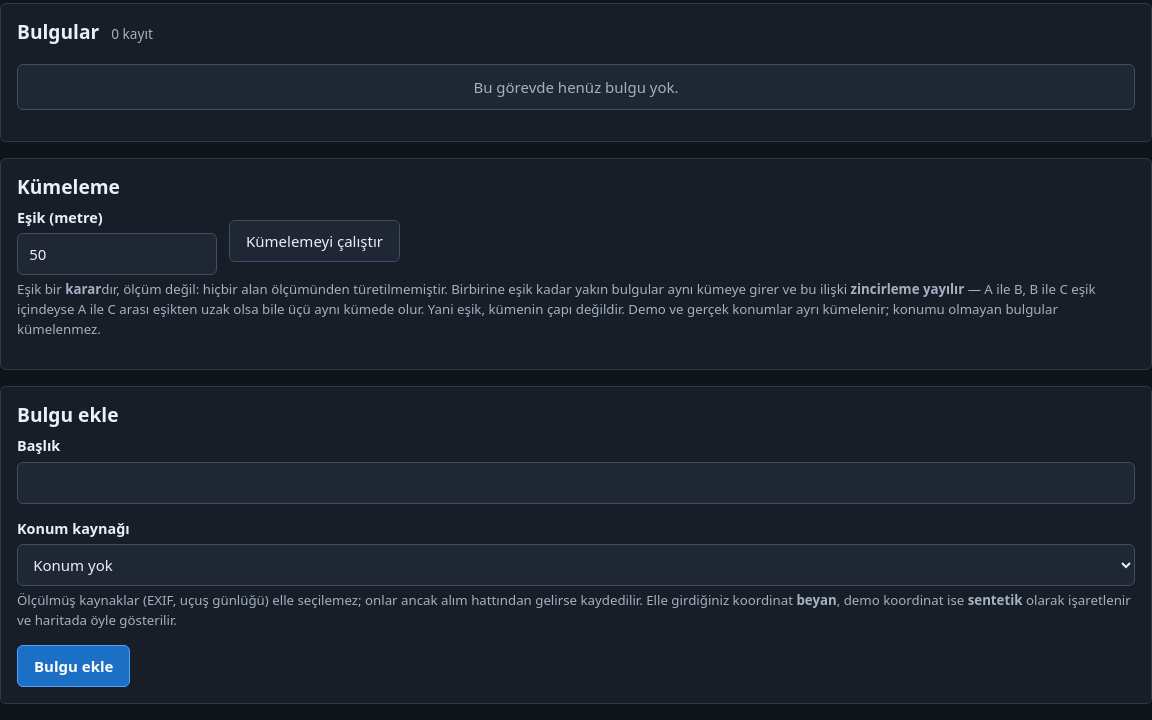
bulgu paneli › elle konum seçilince koordinat alanları çıkar
This screenshot has width=1152, height=720.
(page scrolled)
Select "Operatör girişi (beyan)" in the dropdown labelled "Konum kaynağı" at (576, 565), box [17,544,1135,586]
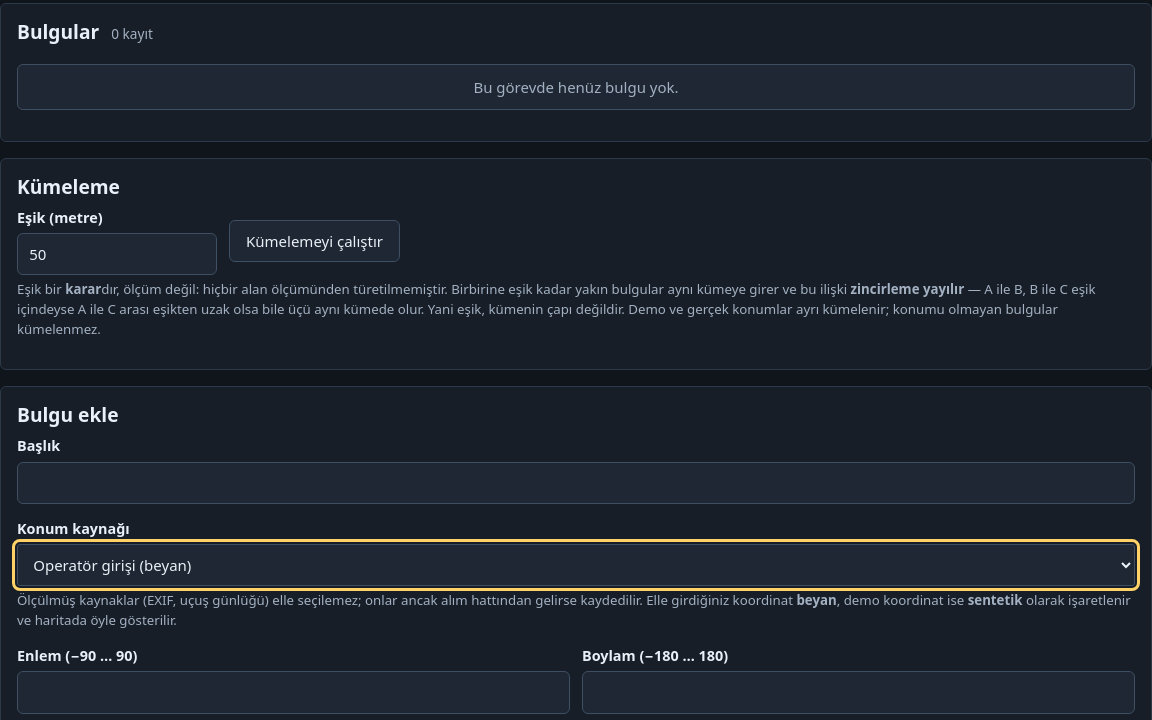
Result: the number field labelled "Enlem (−90 … 90)" is shown at [17,672,570,714]
Result: the number field labelled "Boylam (−180 … 180)" is shown at [582,672,1135,714]
